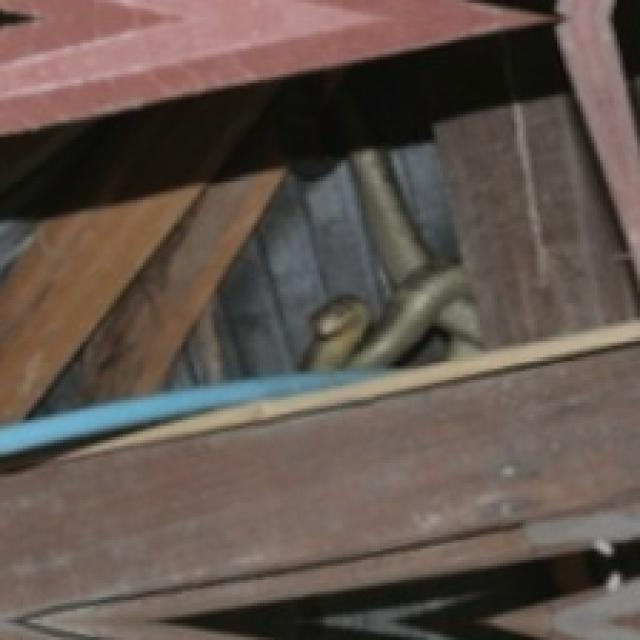king cobra: (306, 149, 477, 369)
